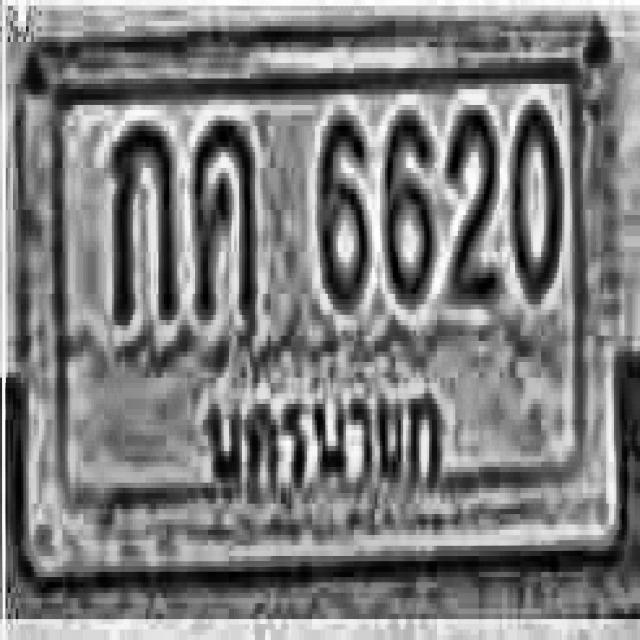license-plate: (18, 17, 630, 596)
